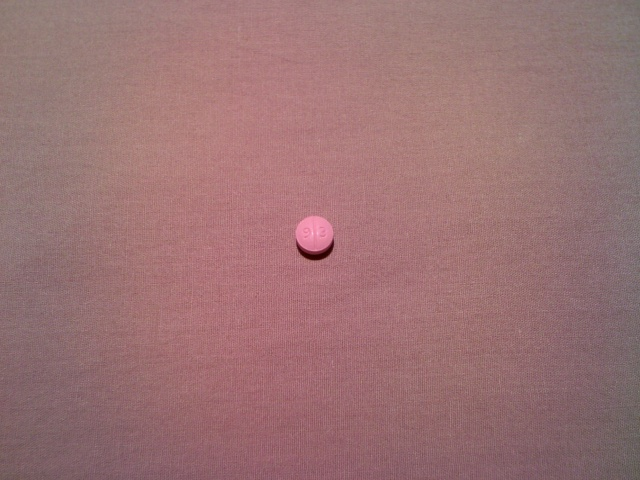3: (318, 225, 328, 238)
9: (302, 226, 311, 240)
|: (311, 216, 319, 251)
